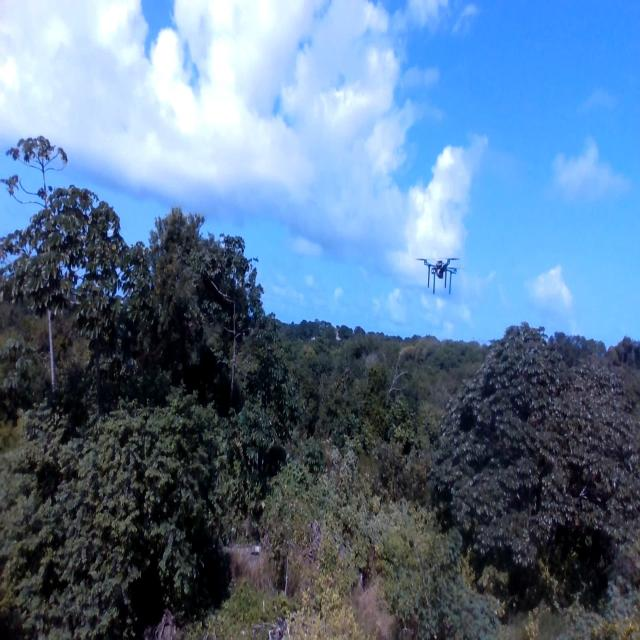-uav-: (406, 234, 467, 308)
